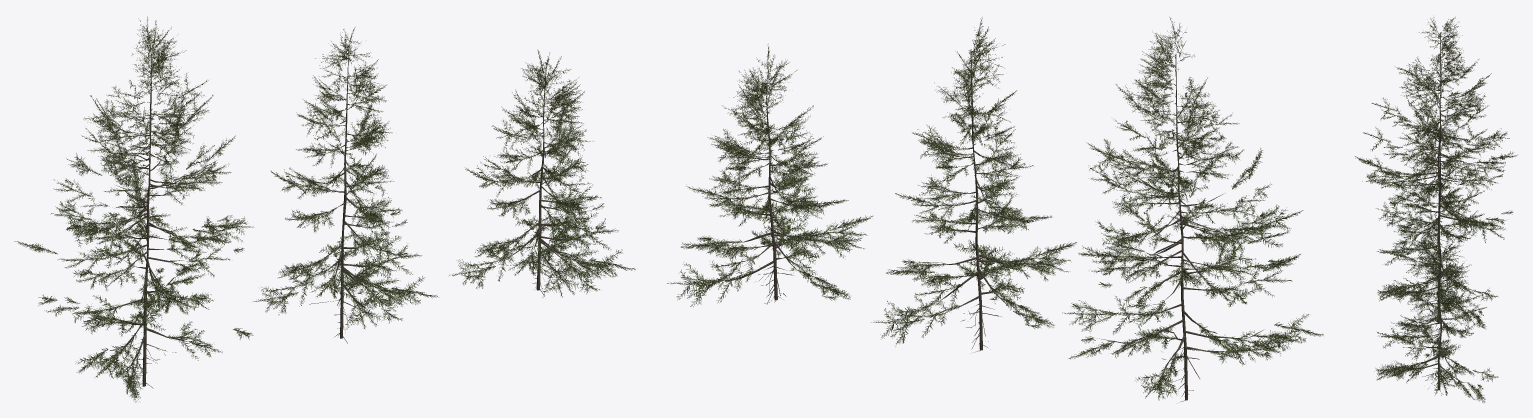
File: fir_sapling_medium.glb
3 views of the same model, side by side, from view 1: azimuth 30°, elevation 25°; view 2: azimuth 150°, elevation 25°; view 3: azimuth 270°, elevation 25° (orthographic). The views are drawn at different scales.
Parts seen in each view (by area): view 1: fir_sapling_medium_a_LOD0; view 2: fir_sapling_medium_a_LOD0; view 3: fir_sapling_medium_a_LOD0.
Boxes of the visible parts, box(x1,y1,x2,y2) form: fir_sapling_medium_a_LOD0: box(14, 16, 635, 402); fir_sapling_medium_a_LOD0: box(667, 17, 1323, 401); fir_sapling_medium_a_LOD0: box(1355, 17, 1517, 402).
Size of the model in its own units: 14.77 by 8.85 by 5.26.
Materials: 3 (3 with a texture image).
